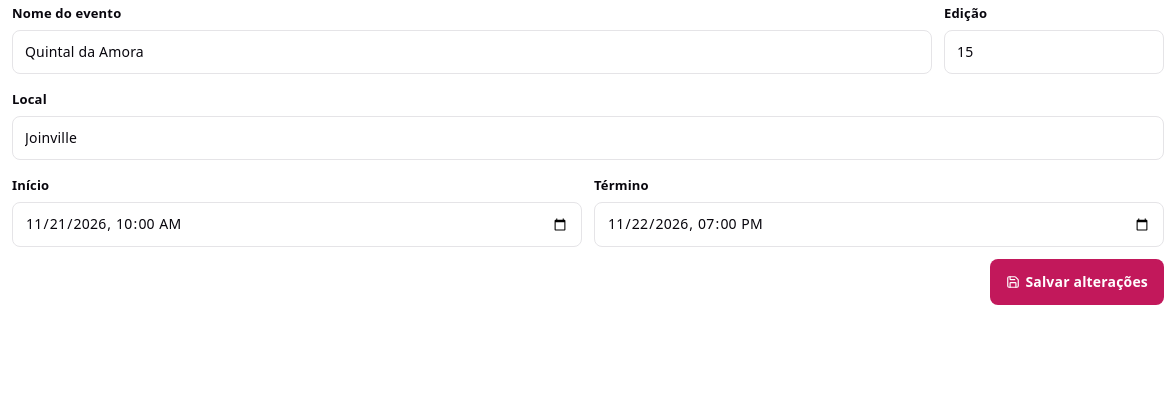
Scenario: EventForm › não envia quando o término é antes do início
The width and height of the screenshot is (1176, 400).
Replace the text in the field labelled "Término" with "2026-11-20T10:00" at (879, 225), box [594,202,1164,247]
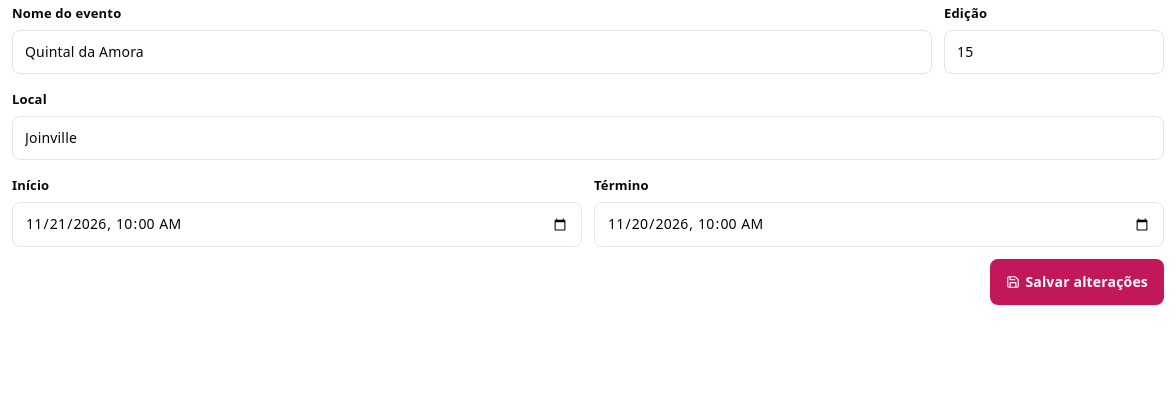
Click the button "Salvar alterações" at (1077, 282), box [990,259,1164,305]
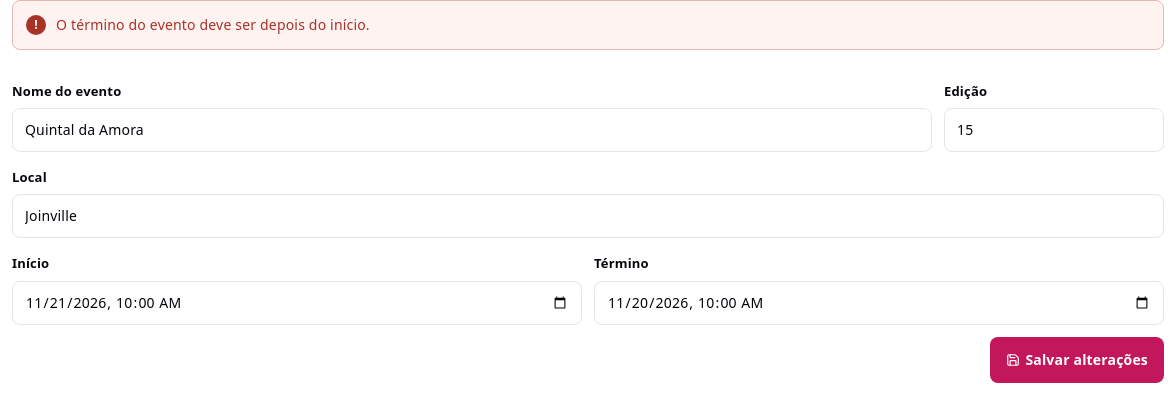
Check: the message shows "O término do evento deve ser depois do início.", box [56,15,370,34]
